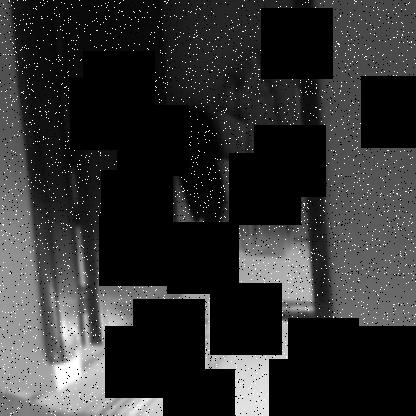Porte: (11, 1, 336, 375)
